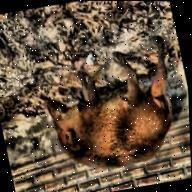boar: (19, 31, 192, 181)
